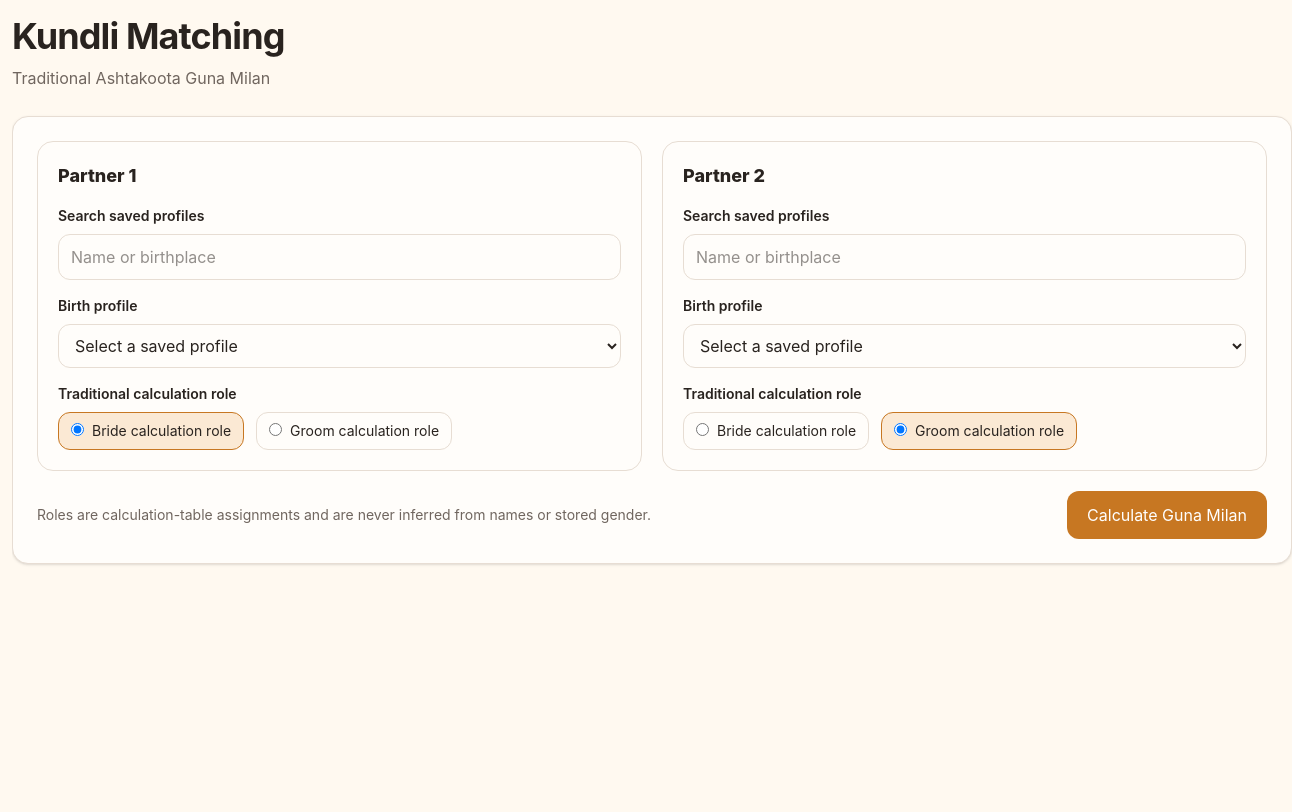
Test case: MatchingPage › reverses roles explicitly and keeps them distinct
Click the 1st radio button labelled "Groom calculation role" at [276, 430], box [269,423,282,436]
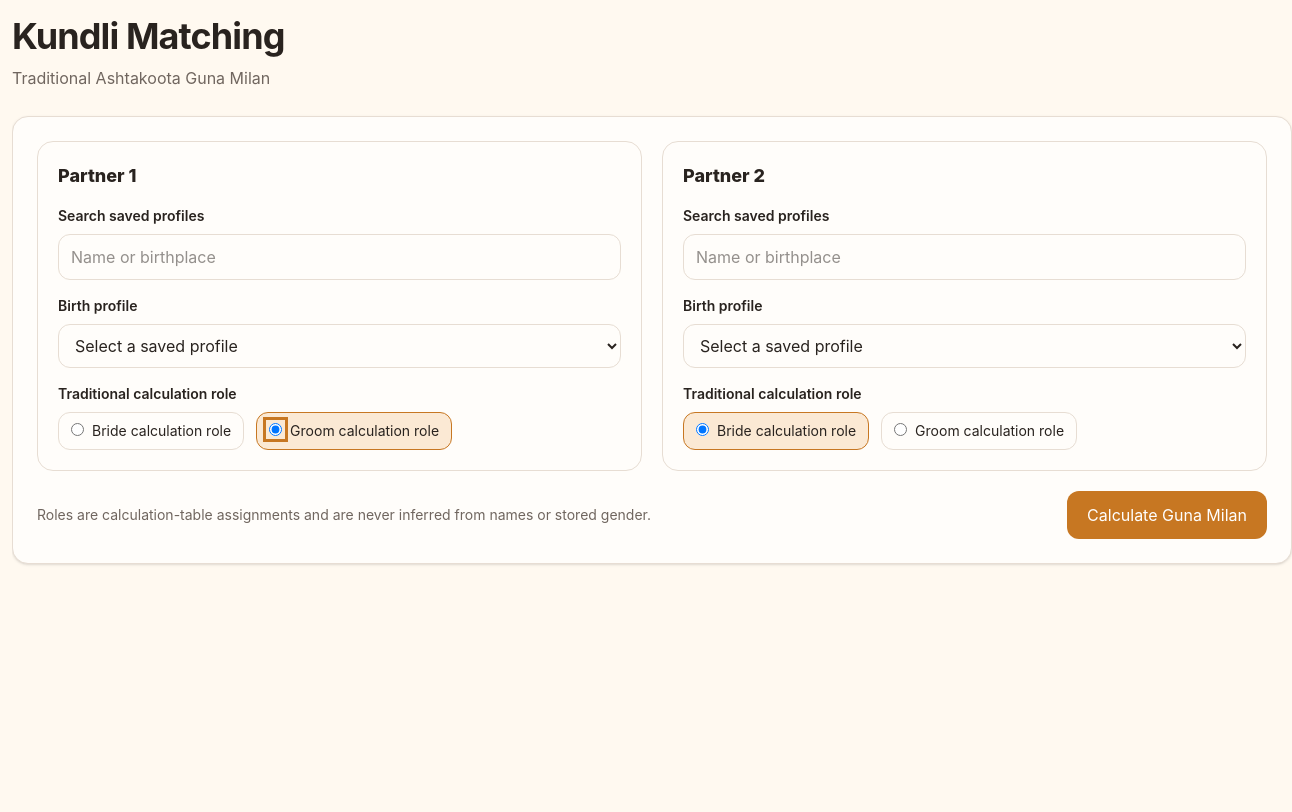
Check: the 2nd radio button labelled "Bride calculation role" is checked, box [696,423,709,436]
